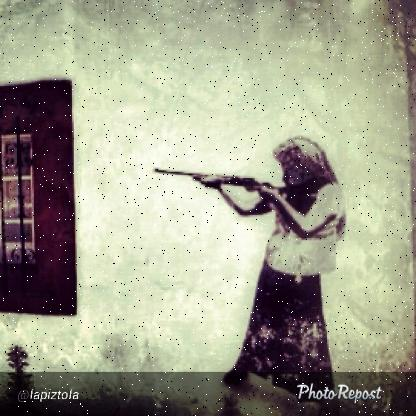gun: (169, 154, 329, 240)
